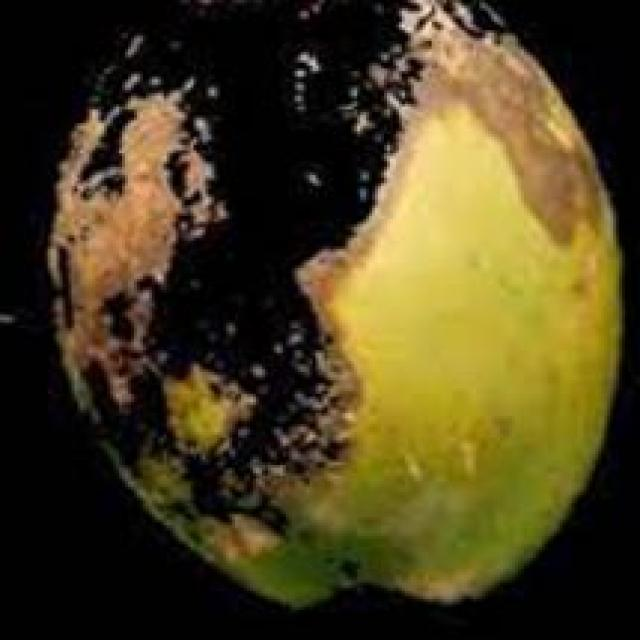damaged: (48, 0, 619, 604)
